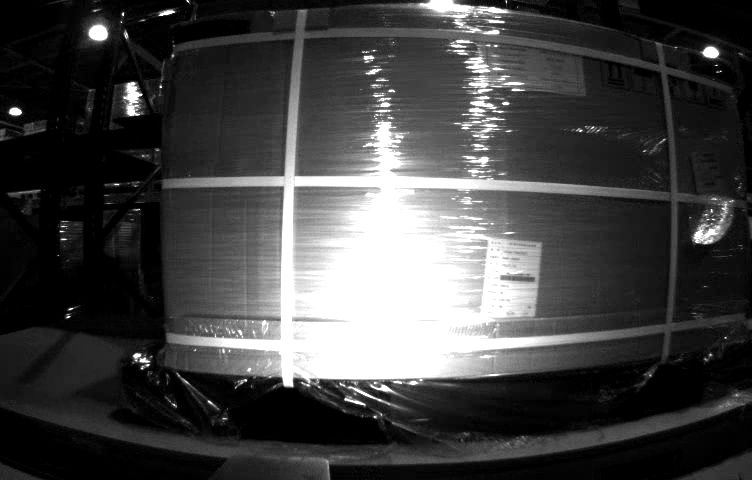True Barcode: (691, 151, 726, 193)
